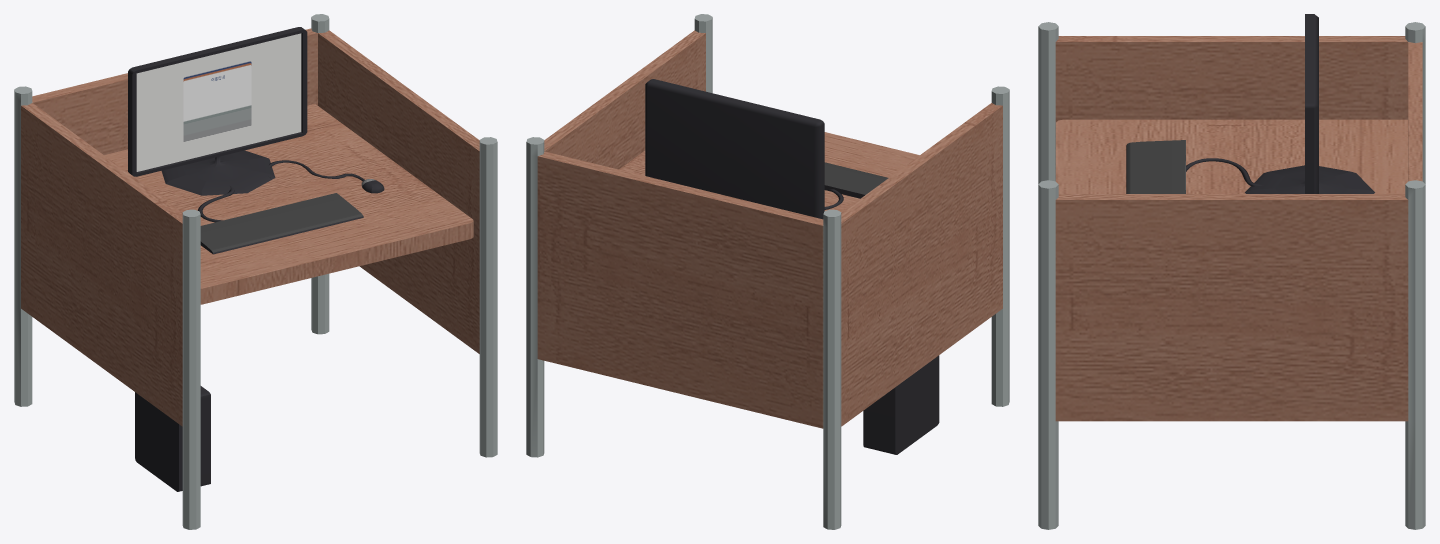
The model's file is dataPC_computerset.fbx.
3 views of the same model, side by side, from view 1: azimuth 30°, elevation 25°; view 2: azimuth 150°, elevation 25°; view 3: azimuth 270°, elevation 25° (orthographic). The views are drawn at different scales.
Parts seen in each view (by area): view 1: dataPC_computerset; view 2: dataPC_computerset; view 3: dataPC_computerset.
Part boxes in pixels (bbox=[...]): dataPC_computerset: bbox=[14, 14, 497, 529]; dataPC_computerset: bbox=[526, 14, 1009, 529]; dataPC_computerset: bbox=[1038, 14, 1425, 529].
Bounding box in the file's own units: 0.00799 × 0.00864 × 0.00784.
2 materials, 2 textured.
